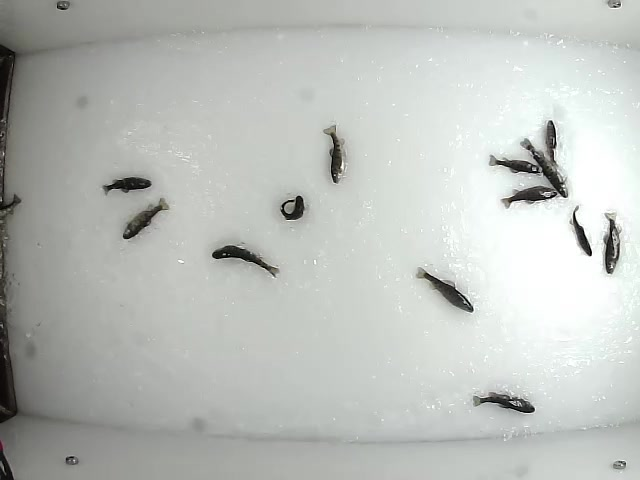fish: (518, 134, 569, 199), (412, 265, 475, 313), (209, 242, 281, 279), (121, 193, 171, 239), (599, 209, 623, 276), (497, 183, 556, 210), (470, 390, 537, 413), (321, 122, 346, 183), (99, 174, 153, 197), (487, 152, 541, 175), (543, 117, 559, 171), (278, 193, 305, 221)
